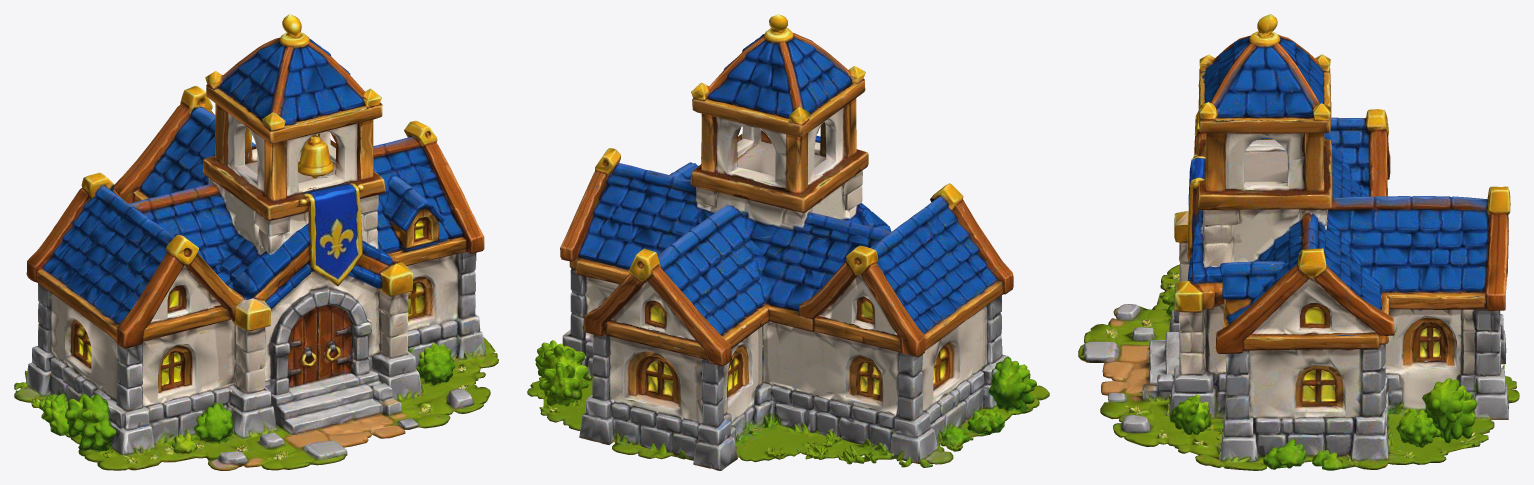
The model's file is ayuntamiento_e4.glb.
The picture shows the model from 3 angles, left to right: view 1: azimuth 30°, elevation 25°; view 2: azimuth 150°, elevation 25°; view 3: azimuth 270°, elevation 25°; orthographic projection.
Size of the model in its own units: 1.9 by 1.54 by 1.69.
Materials: 1 (1 with a texture image).
